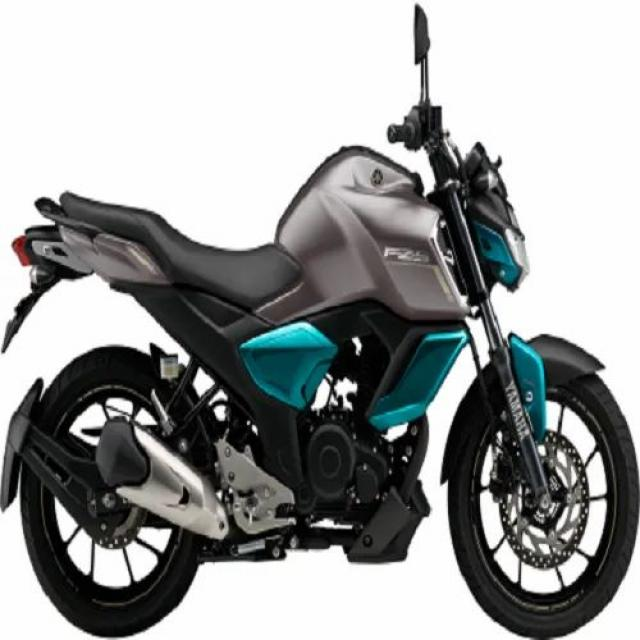Bike: (6, 6, 633, 634)
